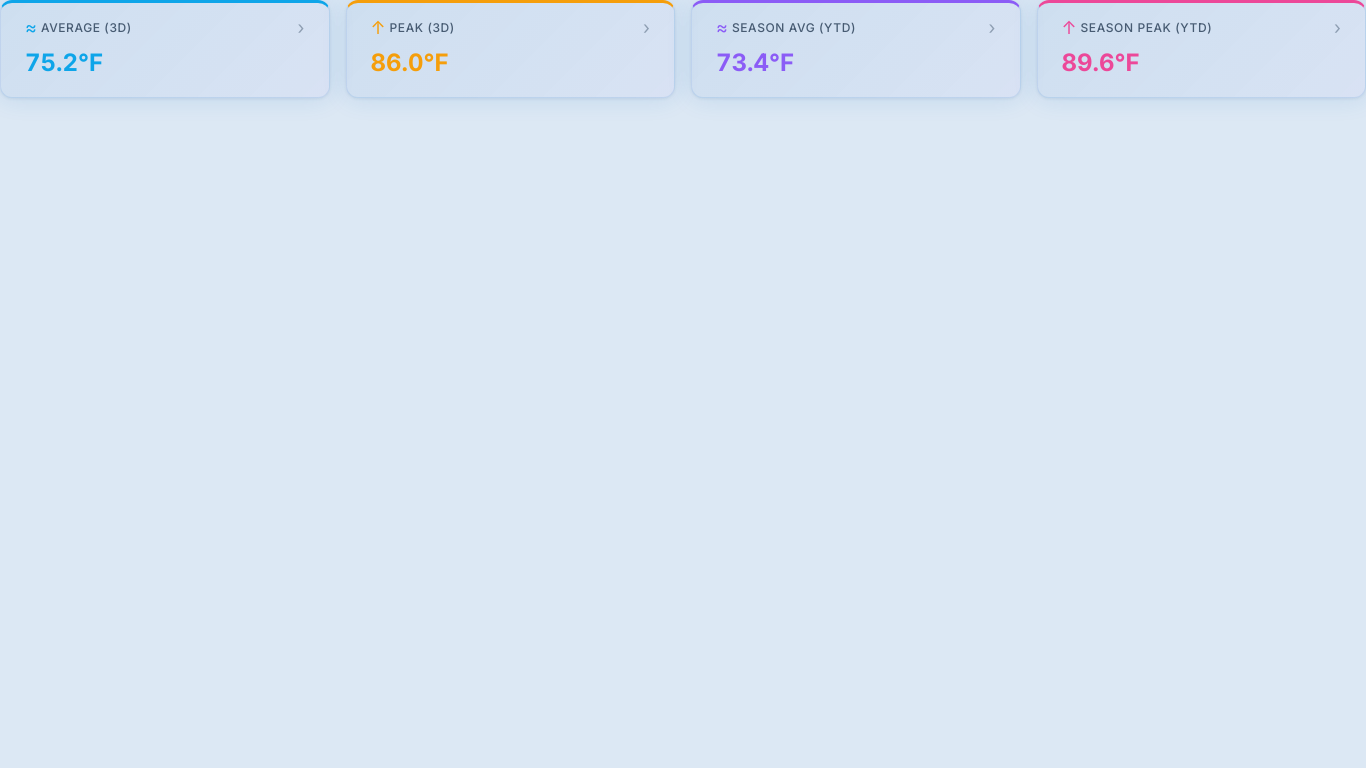
it: StatsGrid › opens peak detail sheet when Peak card is clicked
Click the button with test id "stat-card" showing "↑ Peak (3D) › 86.0°F". click: (422, 28)
box: [346,0,675,98]
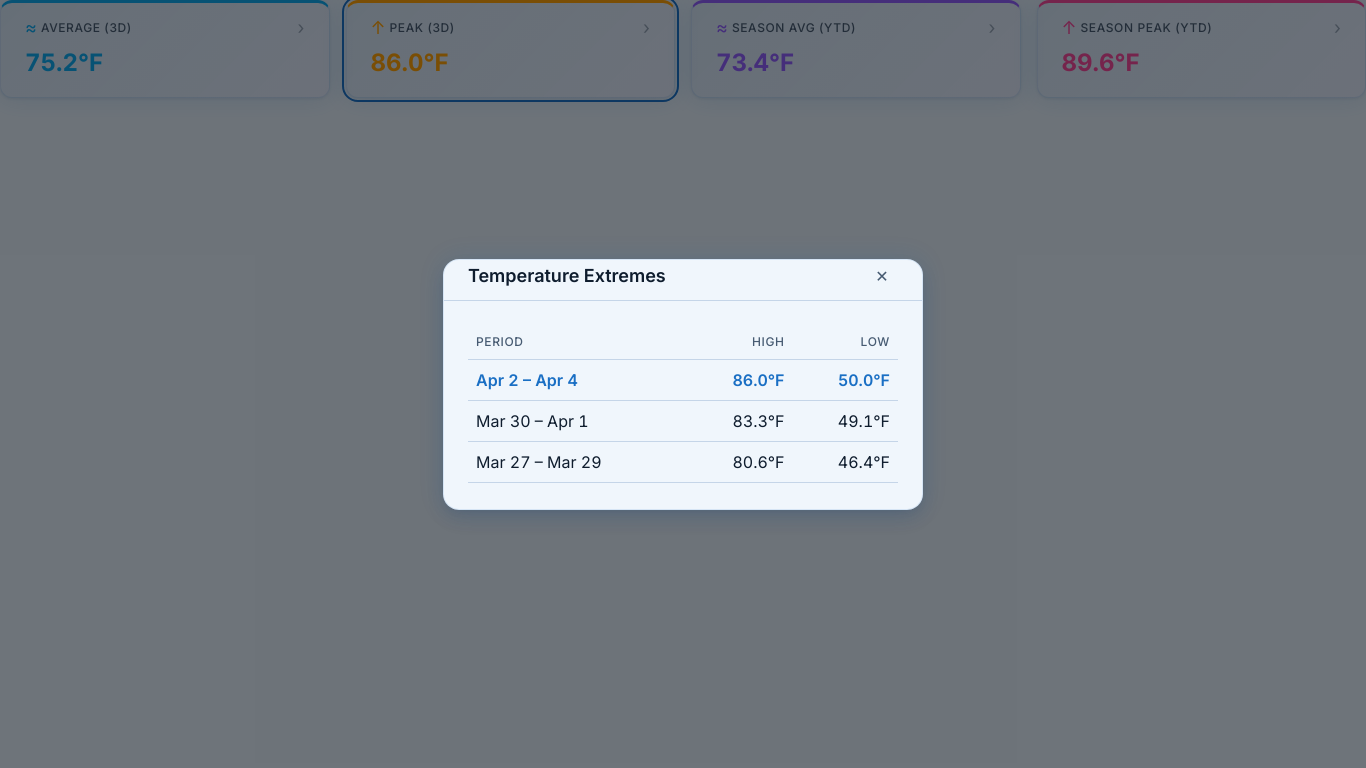
Check: the dialog is shown, box [443,258,923,510]
Check: the heading "Temperature Extremes" is shown, box [468,262,666,289]
